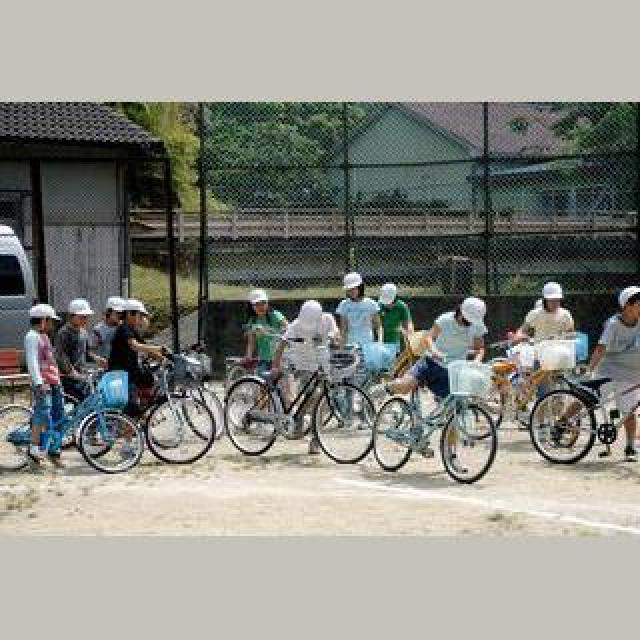MC-Bike: (394, 294, 490, 438), (506, 282, 576, 416), (590, 286, 640, 460), (270, 300, 334, 428), (24, 306, 70, 468), (108, 304, 172, 416), (426, 294, 490, 390), (52, 298, 104, 412), (236, 290, 288, 386), (336, 272, 382, 350), (374, 282, 414, 362), (92, 302, 124, 368)
Person: (224, 346, 372, 464), (372, 356, 498, 486), (0, 364, 144, 474), (528, 358, 640, 466), (130, 348, 220, 464)
